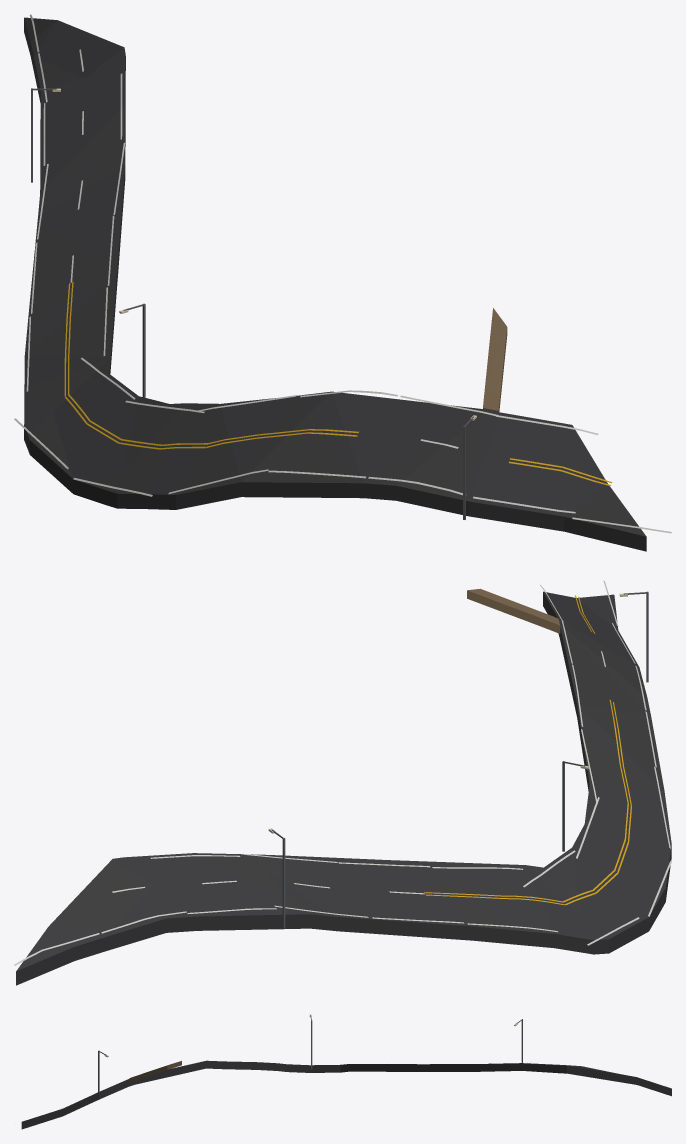
3 renders of one model, top to bottom at view 1: azimuth 30°, elevation 25°; view 2: azimuth 150°, elevation 25°; view 3: azimuth 270°, elevation 25°, orthographic. The views are drawn at different scales.
Size of the model in its own units: 27.23 by 16.86 by 91.68.
